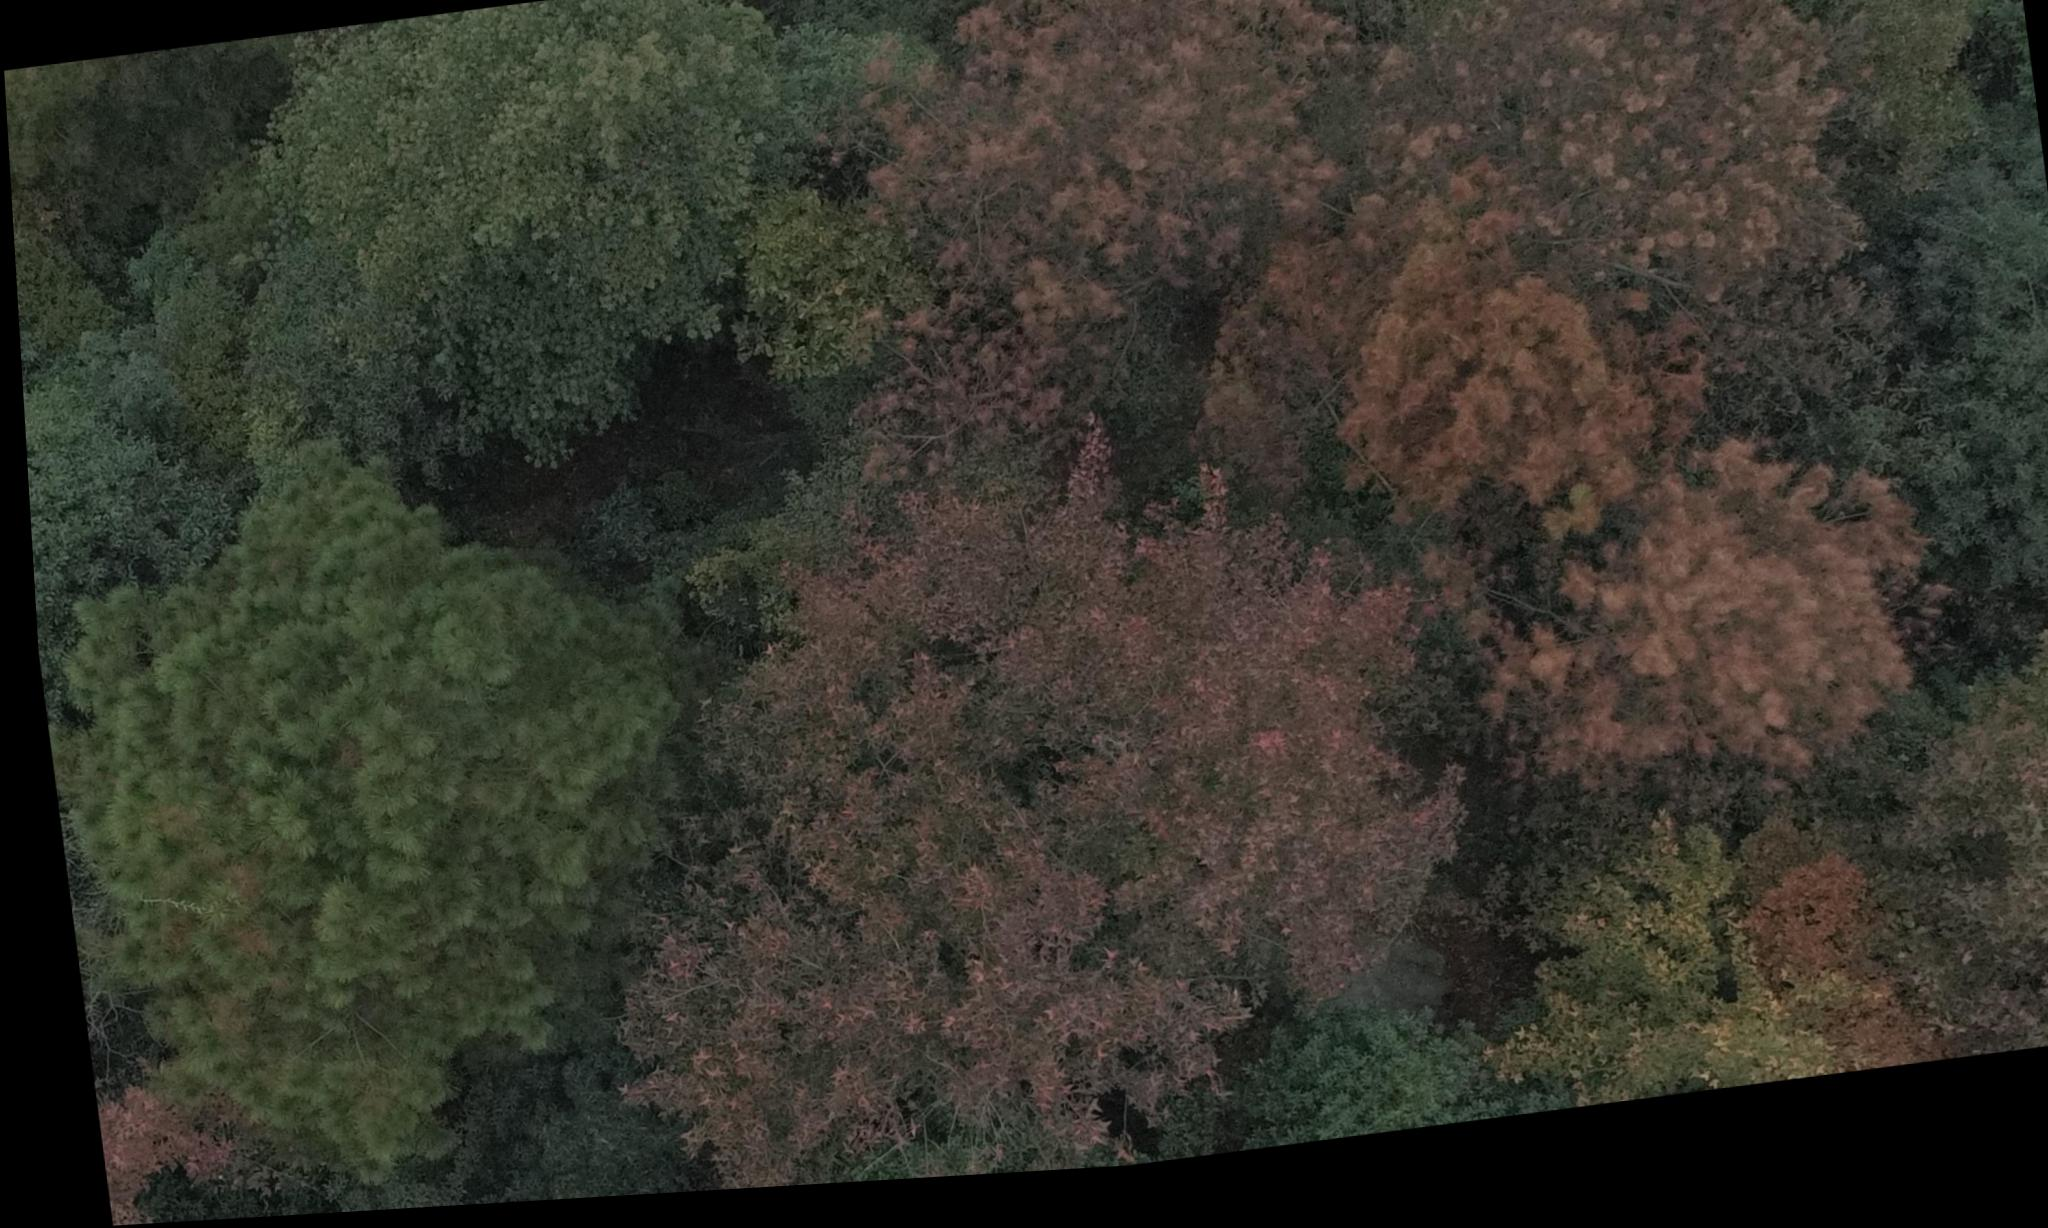heavy: (1463, 493, 1962, 826), (887, 0, 1359, 325), (1370, 0, 1881, 279), (1213, 263, 1690, 557), (838, 330, 1055, 504)
